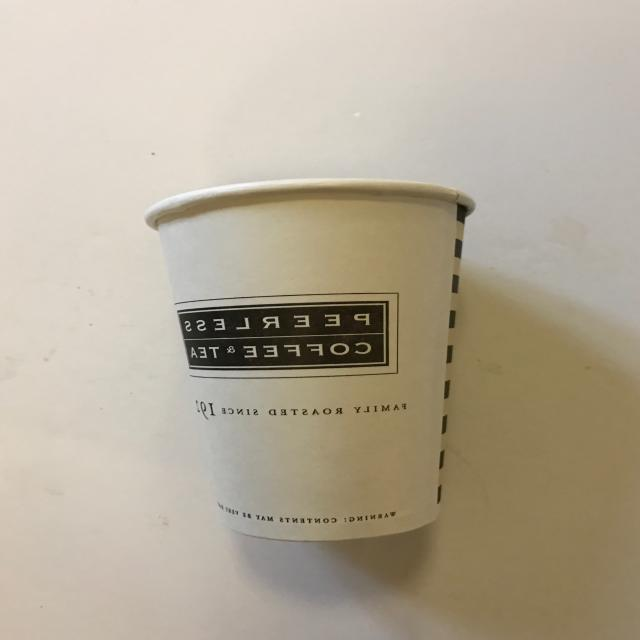trash: (144, 177, 477, 542)
